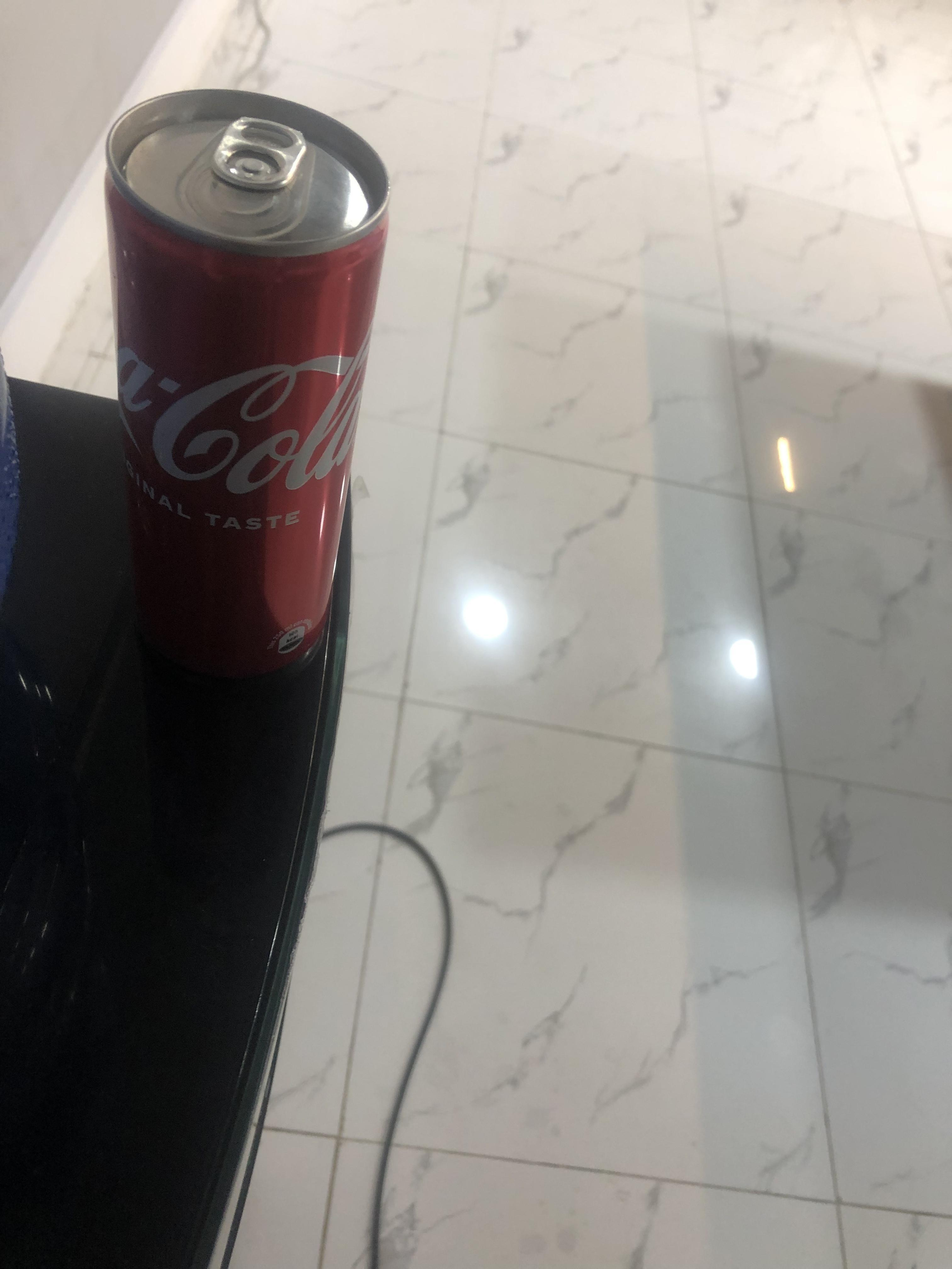tin can: (89, 74, 398, 678)
